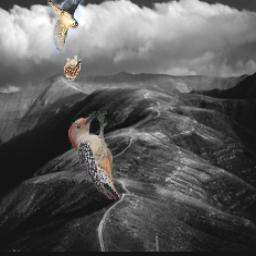Sparrow: (47, 0, 85, 54), (64, 57, 83, 82)
Woodpecker: (70, 112, 121, 200)
